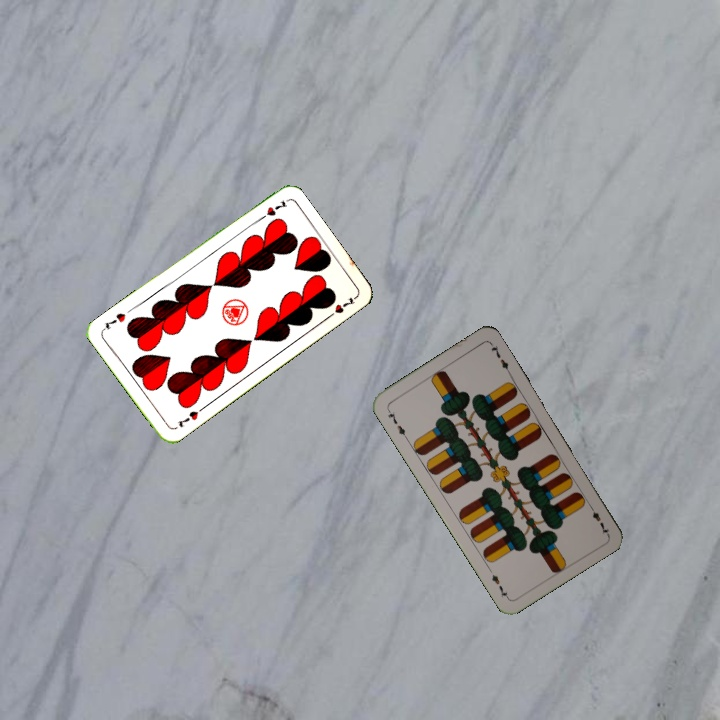E7: (584, 500, 611, 537), (383, 405, 410, 441)
H7: (253, 196, 289, 224), (173, 403, 207, 430)
